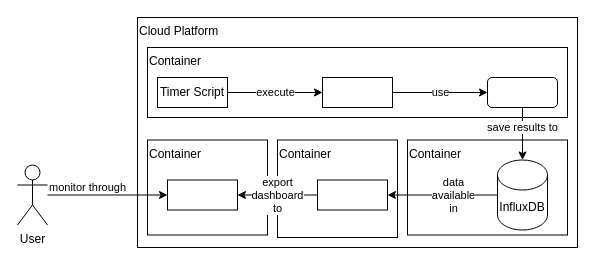
Some shapes in this 595 by 265 pixel diagram are drawn without their labels. Here are the shapes that lost their labels. From the top down, the centre of each, then its label:
(x=357, y=92): JMeter Test
(x=522, y=92): JMX Test Plan
(x=202, y=194): Website
(x=352, y=194): Grafana Interface
